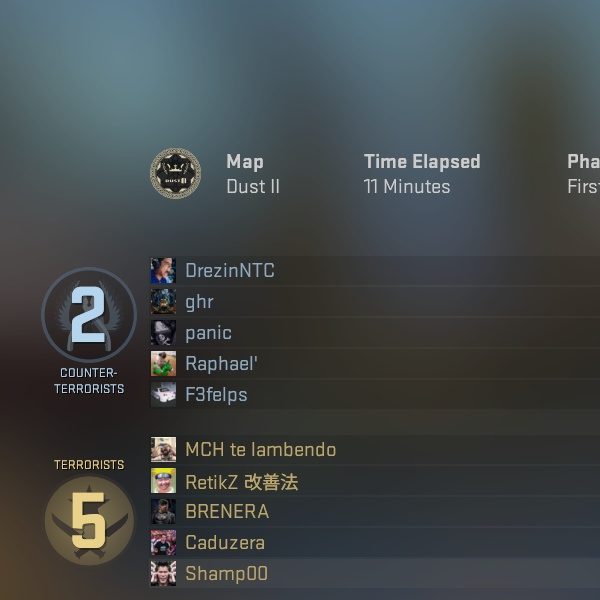t_body: (137, 500, 192, 594)
